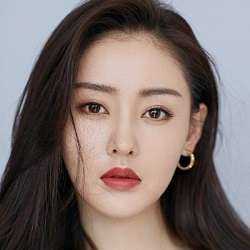unmask: (53, 59, 194, 218)
